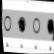correct: (16, 15, 28, 36)
no answer: (2, 14, 13, 35), (31, 17, 42, 36)
not correct: (44, 17, 54, 47)
